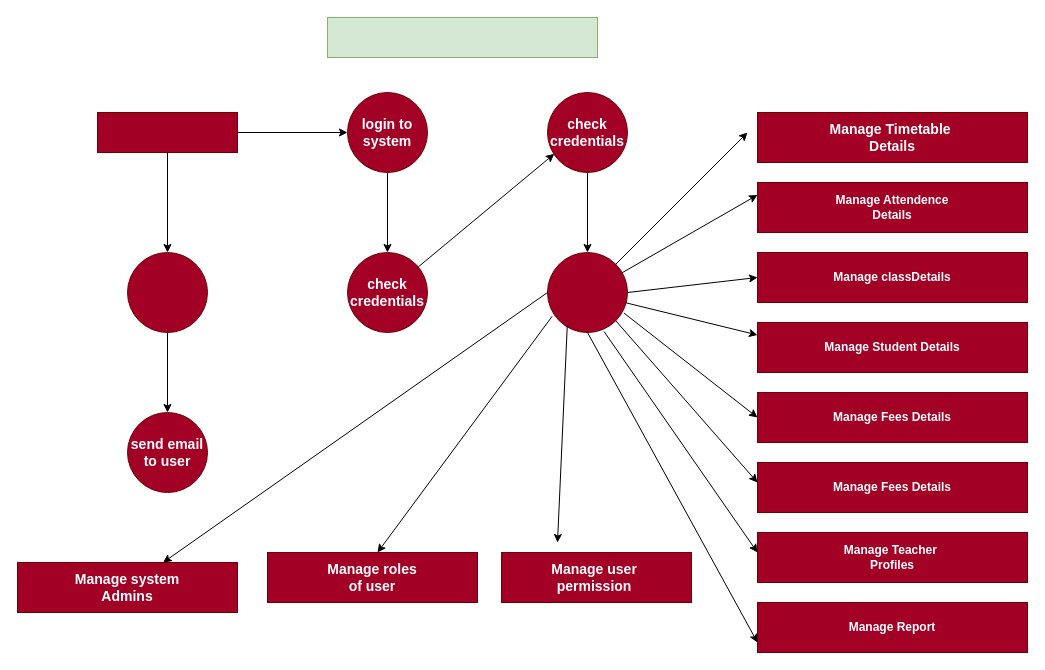
Some shapes in this 1045 by 670 pixel diagram are drawn without their labels. Each missing label, with the centre of its shape:
Admin: the point at 167,132
forgot password: the point at 167,292
Manage modules: the point at 587,292
student Information System: the point at 462,37
